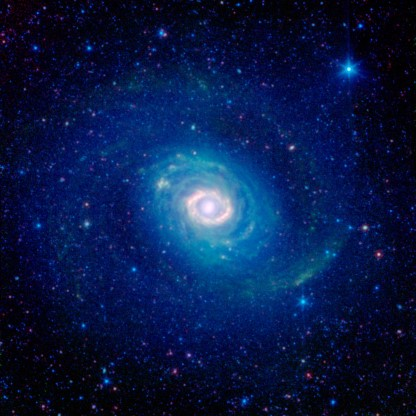Messier 94: (20, 33, 380, 367)
